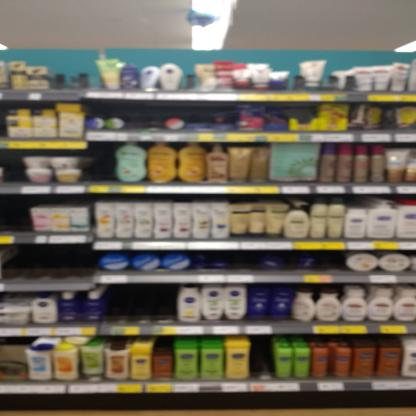Void: (11, 242, 98, 276), (105, 284, 175, 321), (247, 337, 277, 378), (3, 196, 30, 229), (129, 104, 157, 130), (91, 149, 110, 180), (171, 104, 209, 119), (5, 151, 22, 182), (95, 101, 124, 117), (234, 254, 256, 273), (318, 256, 342, 270)
